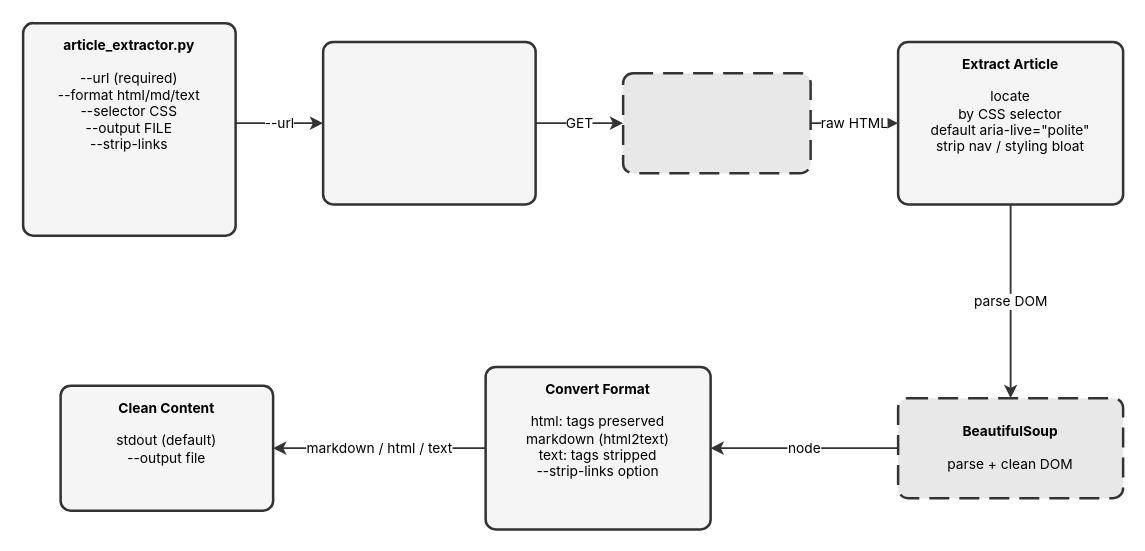
This 1145x551 diagram has some shape labels left out. The centre of each missing label's shape, as x and y in pixels:
"Download HTML fetch page from URL static HTML only no auth support" belongs at [428,122].
"requests HTTP GET" belongs at [716,122].
